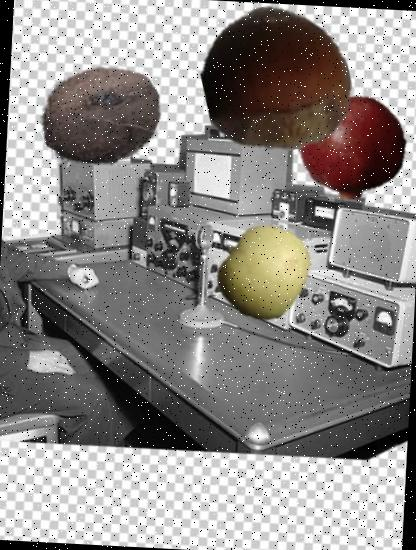Apple: (214, 221, 316, 323)
Cocos: (37, 52, 166, 181)
Nut: (200, 2, 353, 155)
Pear: (223, 14, 350, 142)
Pomegranate: (295, 90, 411, 206)
